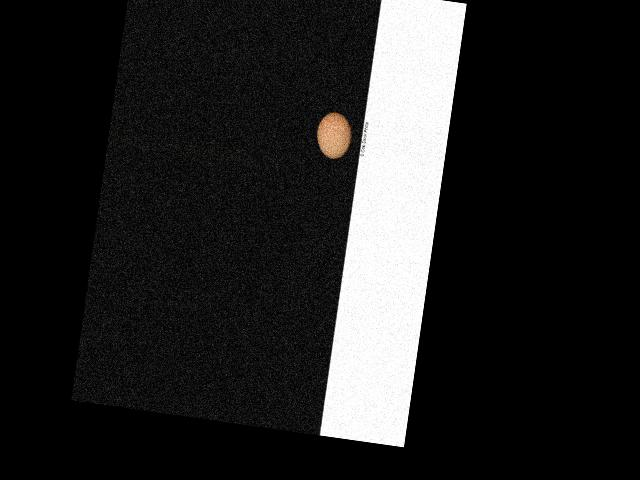egg: (314, 110, 355, 160)
